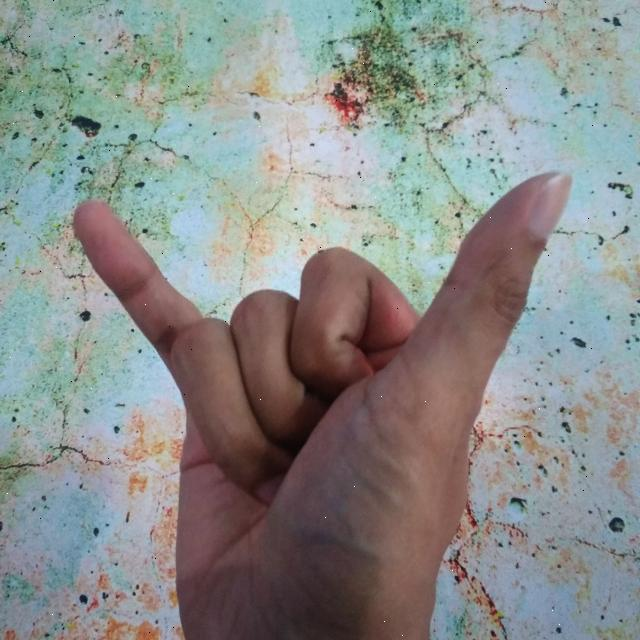Y: (56, 159, 582, 640)
